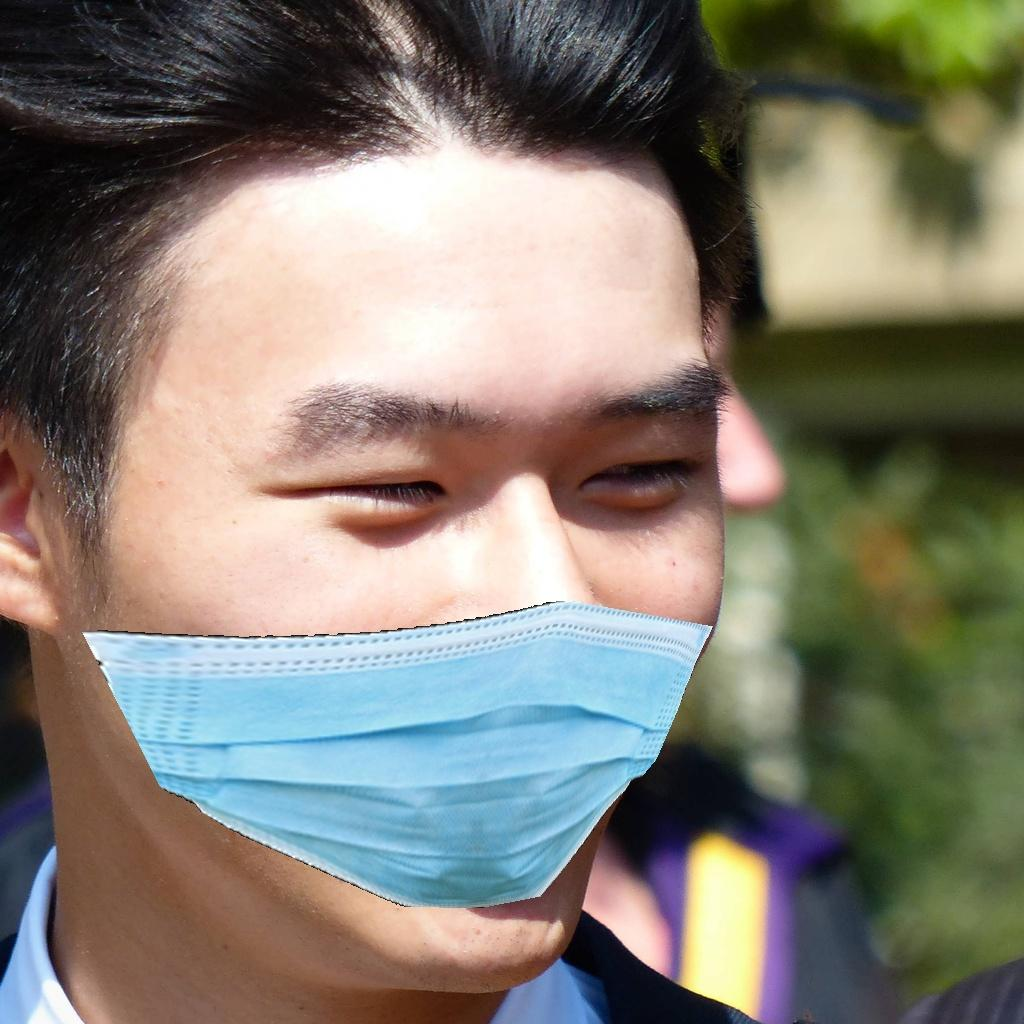Com Máscara: (72, 295, 719, 961)
